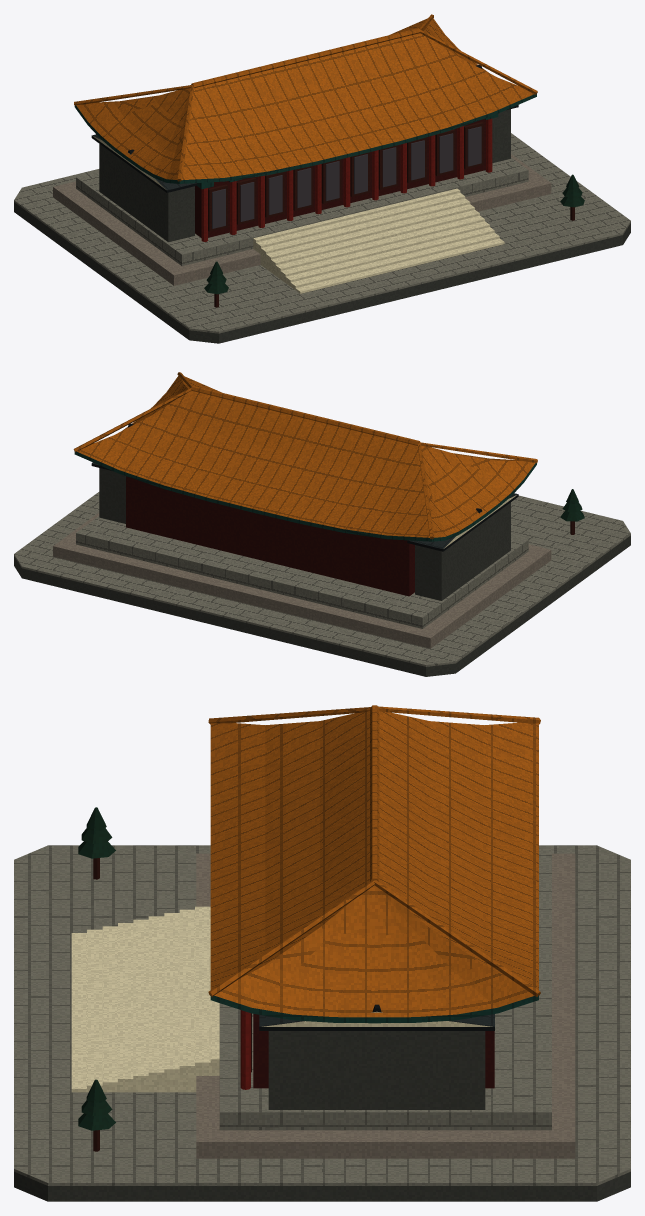
Rendered from nanjing-museum.glb.
3 renders of one model, top to bottom at view 1: azimuth 30°, elevation 25°; view 2: azimuth 150°, elevation 25°; view 3: azimuth 270°, elevation 25°, orthographic. The views are drawn at different scales.
Visible parts, largest first — view 1: 南京博物院; view 2: 南京博物院; view 3: 南京博物院.
Boxes of the visible parts, left/top/right/bottom form: 南京博物院: left=14, top=14, right=630, bottom=343; 南京博物院: left=14, top=372, right=630, bottom=676; 南京博物院: left=14, top=705, right=630, bottom=1201.
Size of the model in its own units: 10.1 by 3.36 by 7.8.
Materials: 13 (12 with a texture image).
